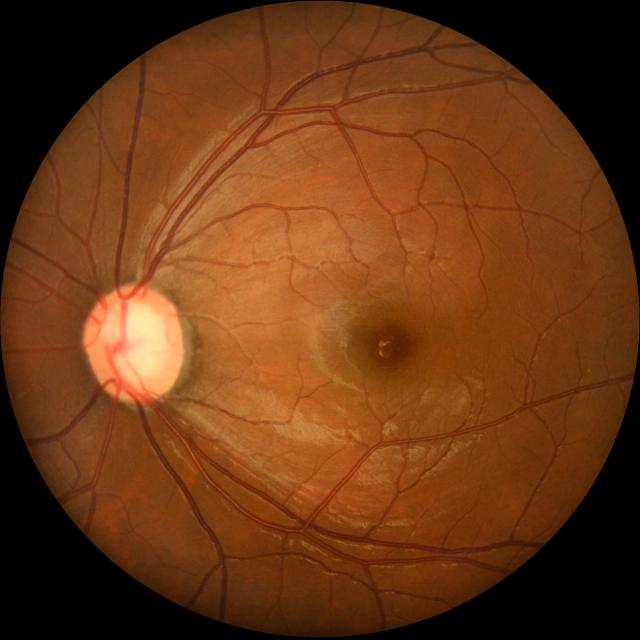OC: (101, 301, 167, 388)
OD: (84, 284, 185, 401)
